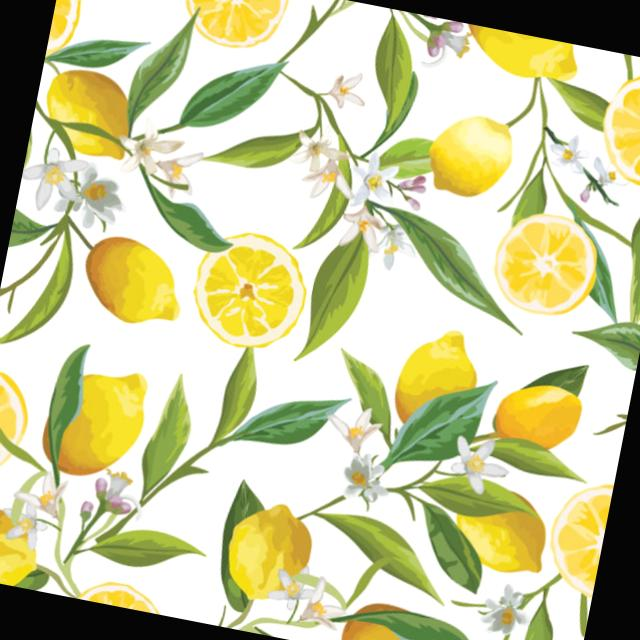lemon: (39, 352, 153, 491), (70, 228, 192, 344), (220, 494, 320, 612)
